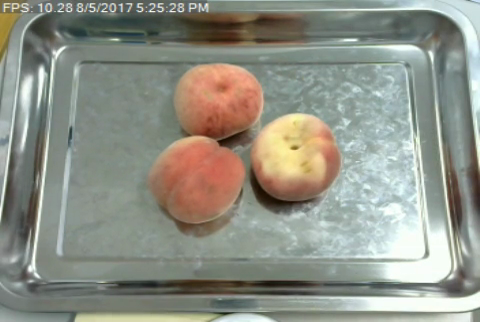Peach: (149, 135, 244, 224), (248, 112, 340, 200), (173, 62, 263, 137)
